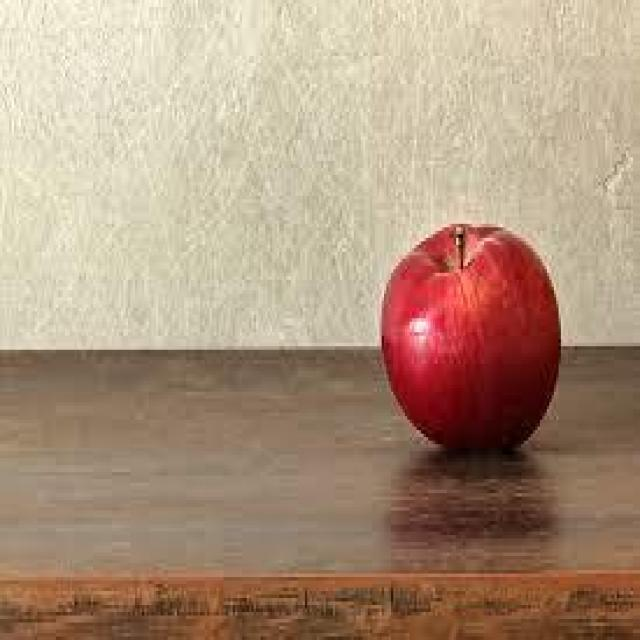maca: (377, 217, 561, 451)
